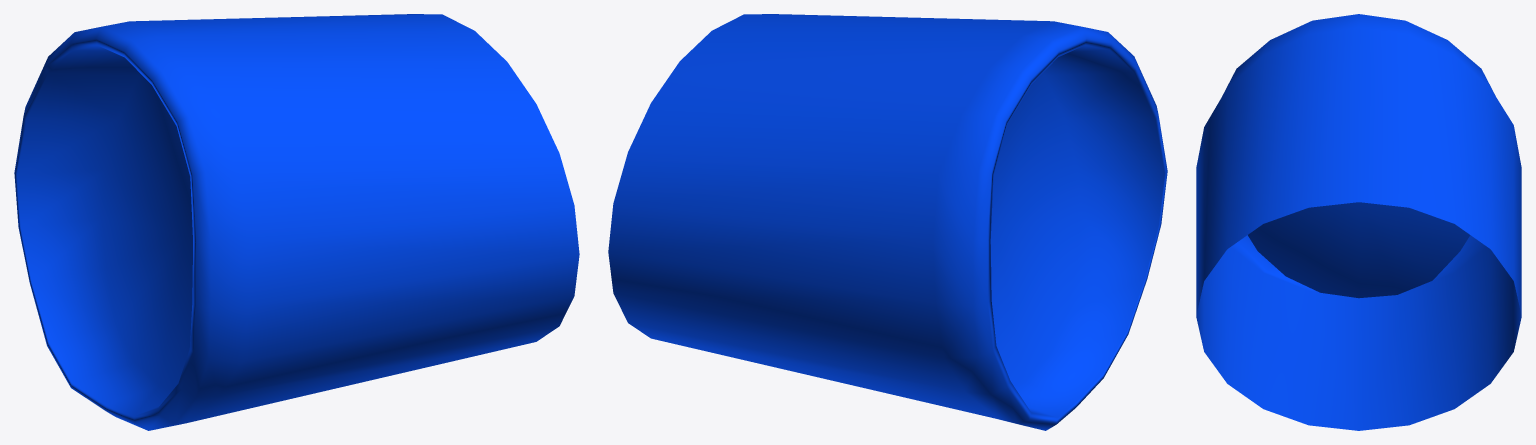
File: Left_shoulder-1.obj
3 renders of one model, left to right at view 1: azimuth 30°, elevation 25°; view 2: azimuth 150°, elevation 25°; view 3: azimuth 270°, elevation 25°, orthographic. The views are drawn at different scales.
Visible parts, largest first — view 1: polySurface237 polySurface142; view 2: polySurface237 polySurface142; view 3: polySurface237 polySurface142.
Part boxes in pixels (bbox=[...]): polySurface237 polySurface142: bbox=[14, 14, 579, 430]; polySurface237 polySurface142: bbox=[608, 14, 1167, 430]; polySurface237 polySurface142: bbox=[1196, 14, 1521, 430].
Size of the model in its own units: 2.21 by 2.09 by 2.12.
